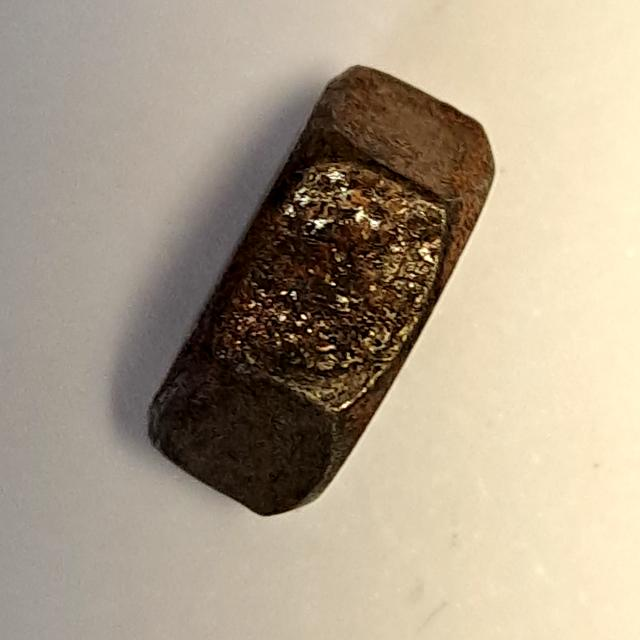Side_Rust: (130, 53, 509, 531)
